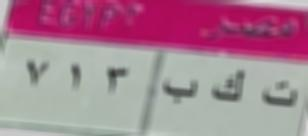1: (58, 60, 87, 95)
3: (101, 63, 137, 98)
7: (22, 51, 51, 93)
baa: (160, 77, 204, 109)
kaaf: (208, 66, 251, 113)
taa: (256, 75, 302, 113)
